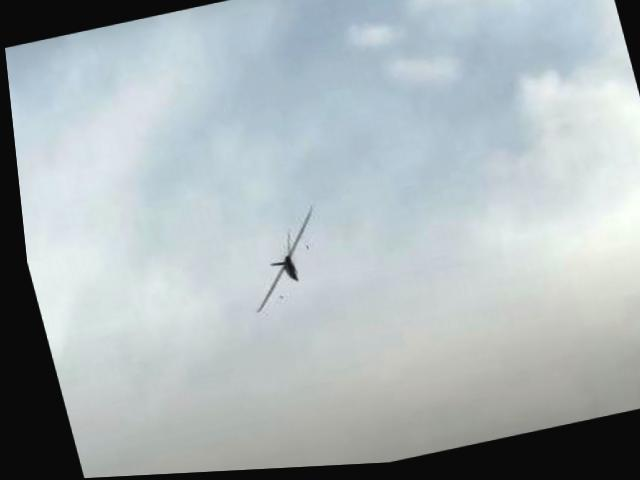uav: (226, 208, 330, 320)
